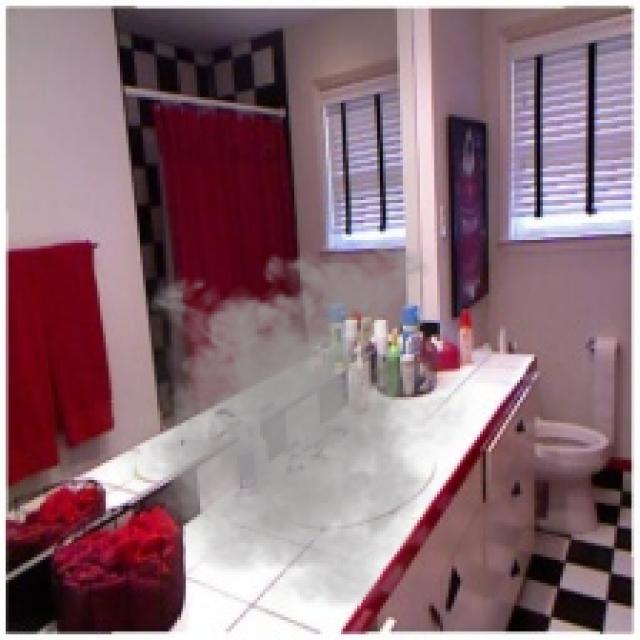smoke: (91, 232, 488, 614)
